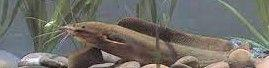Catfish: (32, 4, 231, 65)
